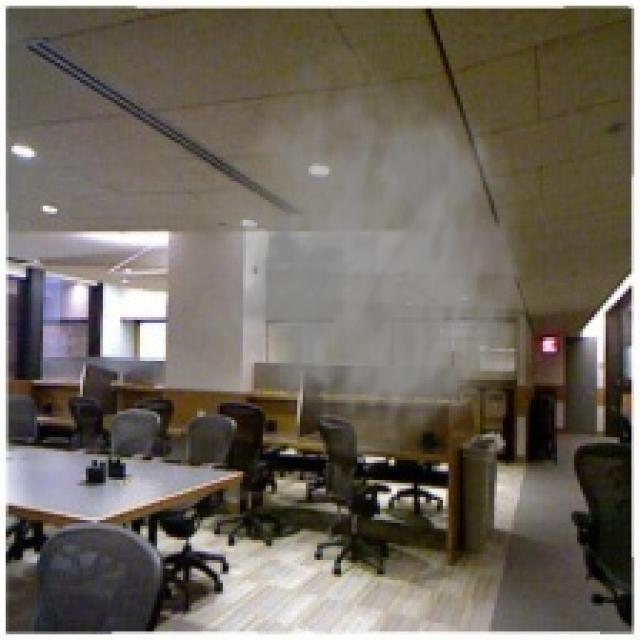Smoke: (192, 40, 537, 463)
